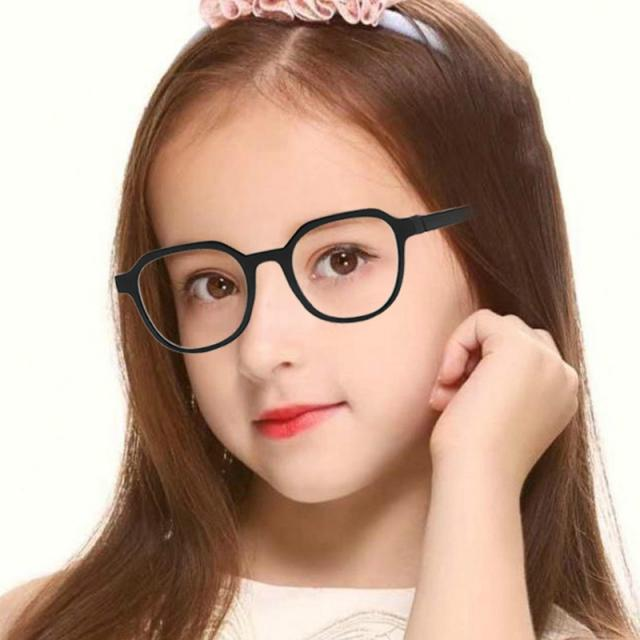Glasses: (114, 202, 470, 360)
